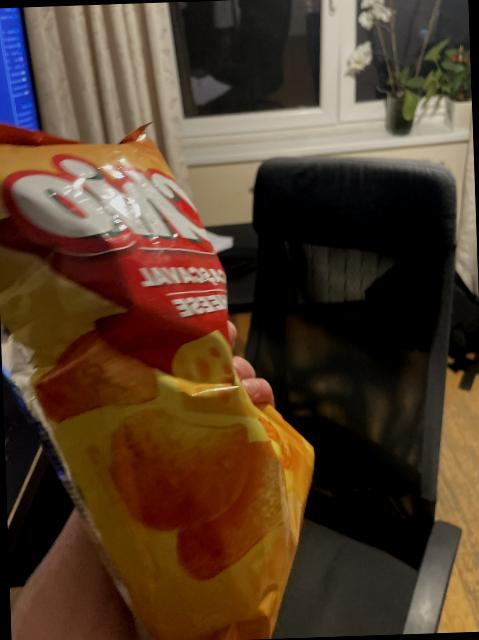Chio Cascaval 125g: (0, 109, 331, 640)
